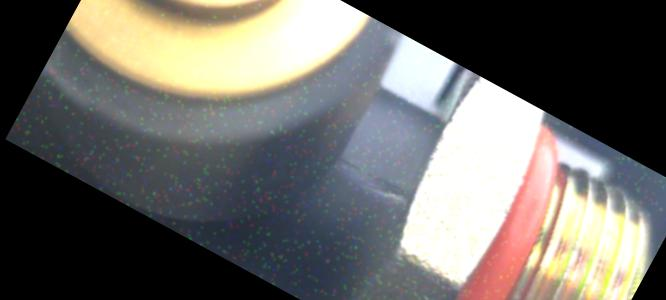joint line: (334, 149, 411, 197)
white mark: (364, 178, 405, 207)
